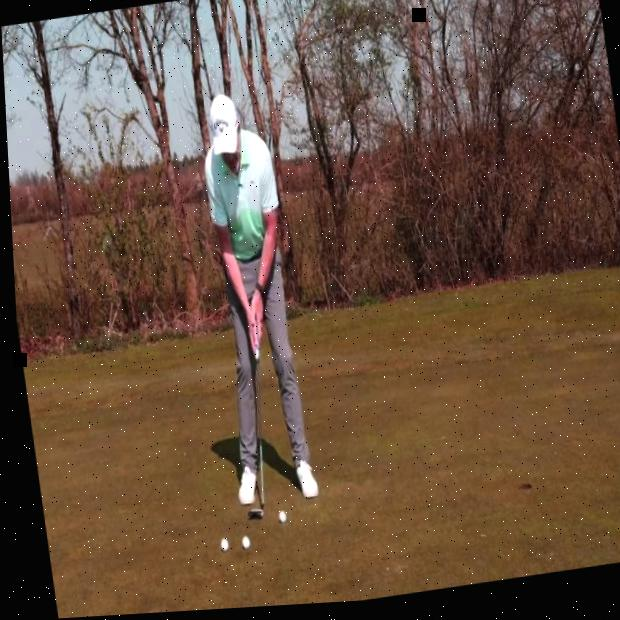GolfBall: (230, 531, 249, 558), (209, 534, 229, 558), (267, 506, 282, 530)
